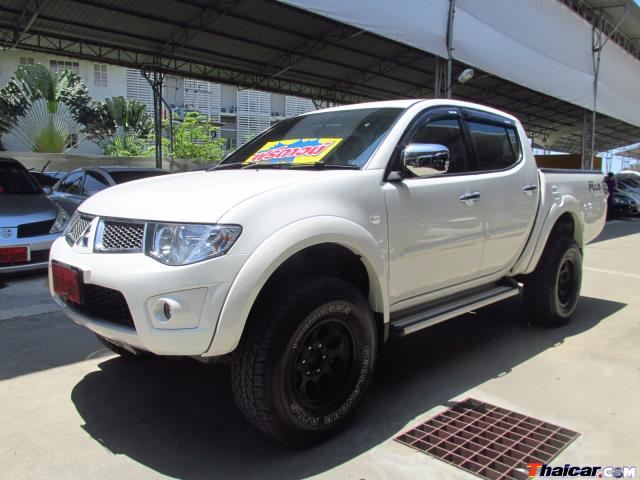pickup: (44, 97, 611, 445)
